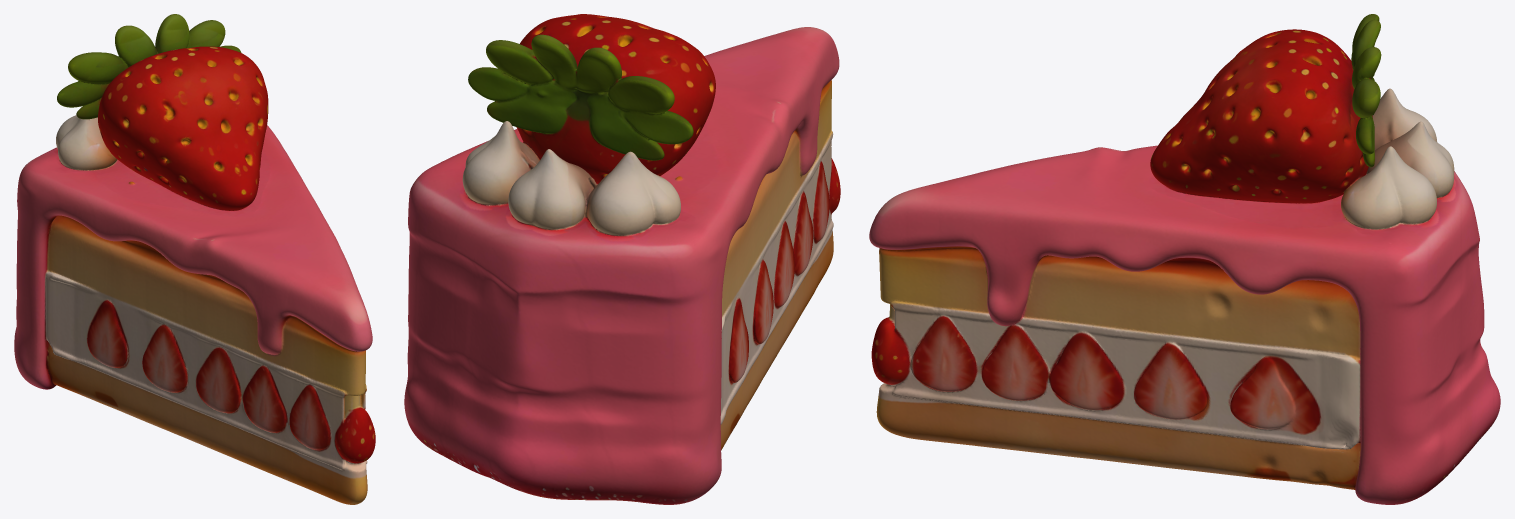
File: Cake3d-mobile.glb
3 views of the same model, side by side, from view 1: azimuth 30°, elevation 25°; view 2: azimuth 150°, elevation 25°; view 3: azimuth 270°, elevation 25° (orthographic). The views are drawn at different scales.
Visible parts, largest first — view 1: tripo_node_bdfea854-df09-4f8a-80d1-5252b74fdd95; view 2: tripo_node_bdfea854-df09-4f8a-80d1-5252b74fdd95; view 3: tripo_node_bdfea854-df09-4f8a-80d1-5252b74fdd95.
Boxes of the visible parts, <box> form: tripo_node_bdfea854-df09-4f8a-80d1-5252b74fdd95: <box>14,14,375,504</box>; tripo_node_bdfea854-df09-4f8a-80d1-5252b74fdd95: <box>404,14,840,504</box>; tripo_node_bdfea854-df09-4f8a-80d1-5252b74fdd95: <box>869,14,1500,504</box>.
Size of the model in its own units: 0.5408 by 0.7161 by 1.
Materials: 1 (1 with a texture image).
